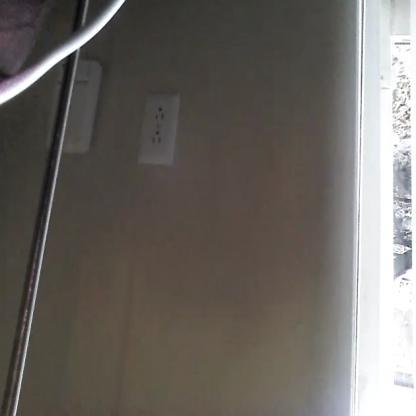OUTLET: (134, 89, 182, 168)
